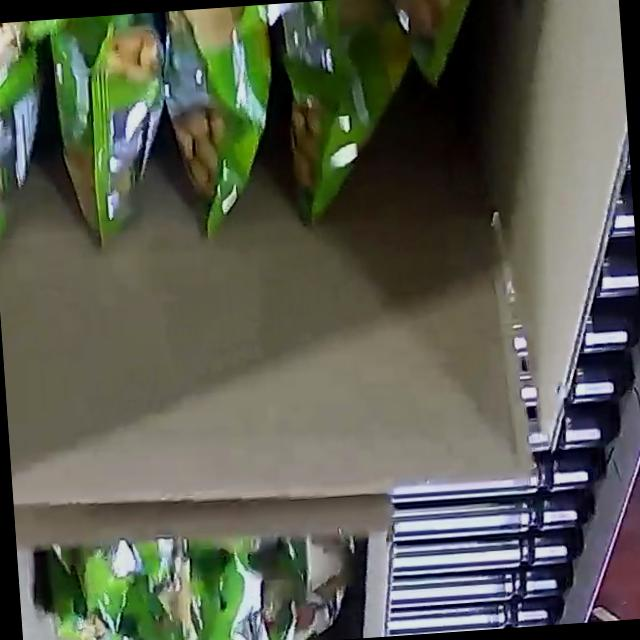yogurt: (0, 0, 507, 310), (37, 520, 362, 640)
